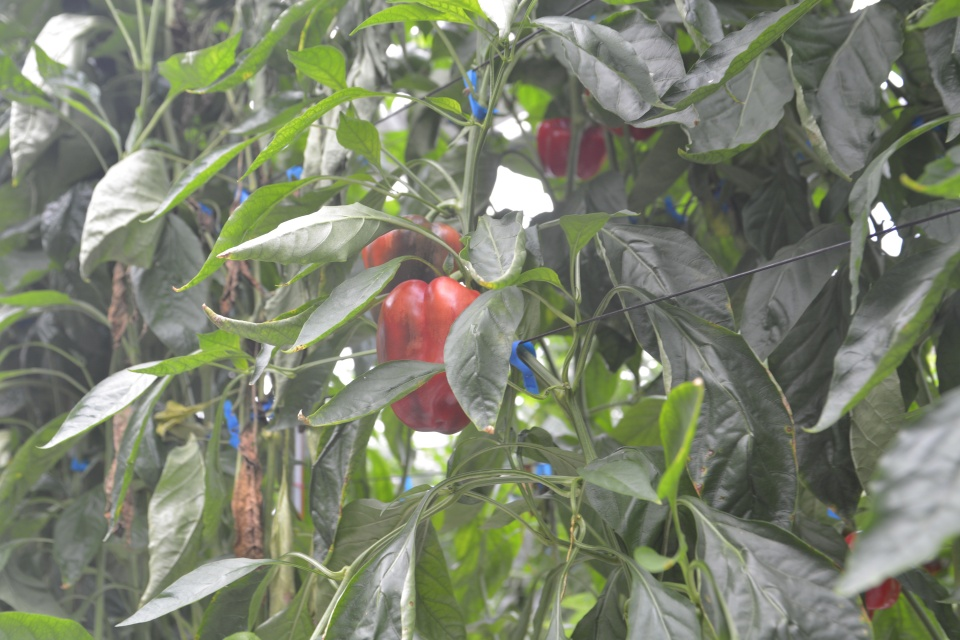fruit: (376, 272, 482, 435), (360, 211, 466, 326), (844, 529, 902, 620), (535, 113, 610, 182)
